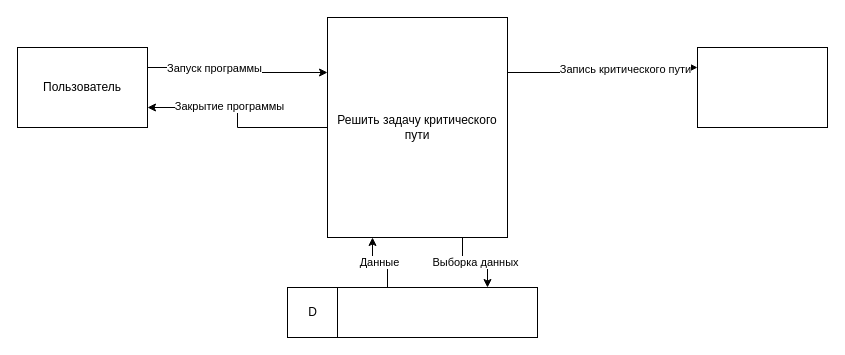
Image size: 845x355. Some labels were removed from this diagram. The box of each missing label's shape, as (x1, y1, x2, y2) in pixels:
Файл с выходными данными: (696, 46, 828, 128)
Файл с исходными данными: (336, 286, 538, 338)
